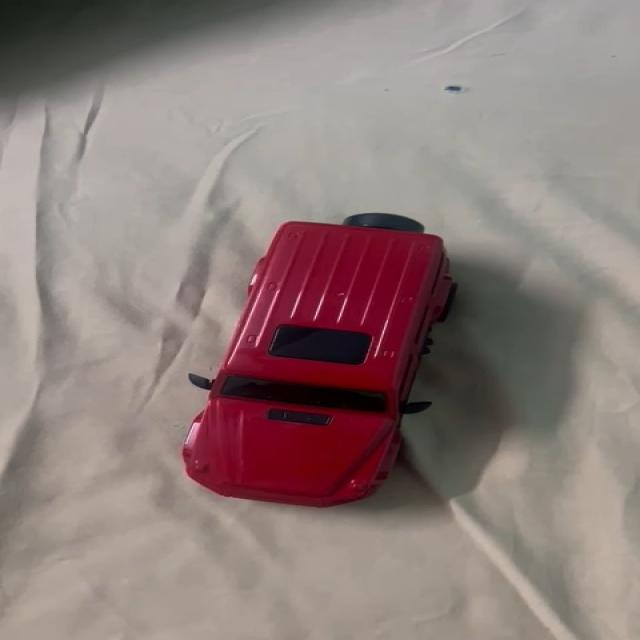light_vehicle: (160, 208, 458, 509)
